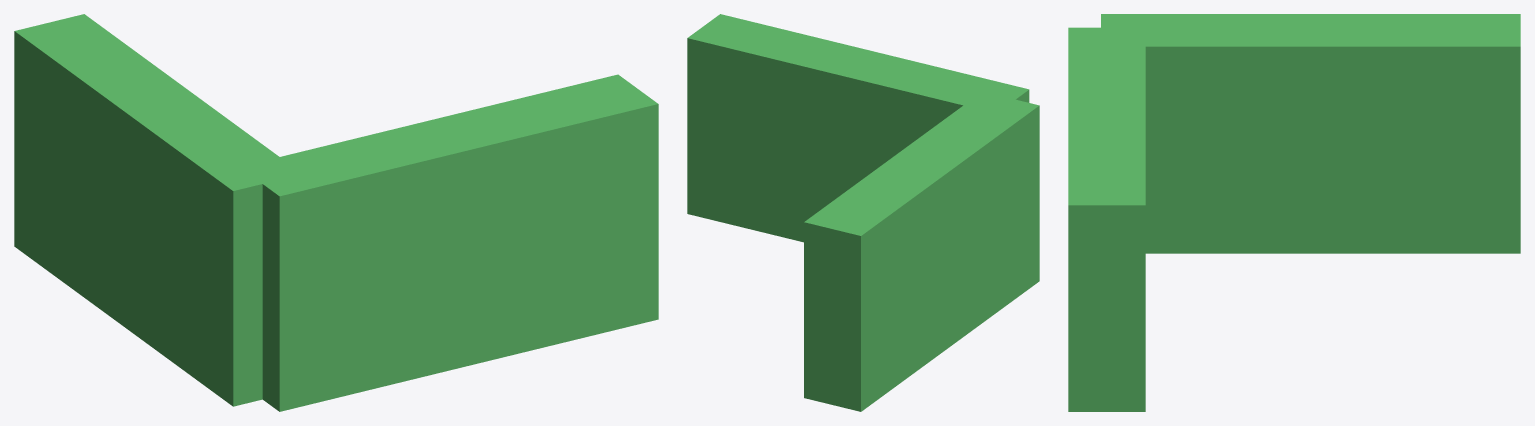
Rendered from balustrade_vault_corner_collision.glb.
3 views of the same model, side by side, from view 1: azimuth 30°, elevation 25°; view 2: azimuth 150°, elevation 25°; view 3: azimuth 270°, elevation 25° (orthographic). The views are drawn at different scales.
Parts seen in each view (by area): view 1: balustrade_vault_corner_x_arm-col, balustrade_vault_corner_y_arm-col; view 2: balustrade_vault_corner_y_arm-col, balustrade_vault_corner_x_arm-col; view 3: balustrade_vault_corner_y_arm-col, balustrade_vault_corner_x_arm-col.
Boxes of the visible parts, x1,y1,x2,y2 form: balustrade_vault_corner_x_arm-col: (240,74,658,411); balustrade_vault_corner_y_arm-col: (14,14,302,406); balustrade_vault_corner_y_arm-col: (804,91,1039,411); balustrade_vault_corner_x_arm-col: (687,14,1029,242); balustrade_vault_corner_y_arm-col: (1101,14,1520,253); balustrade_vault_corner_x_arm-col: (1068,27,1145,411).
Size of the model in its own units: 2.22 by 1.12 by 2.22.
